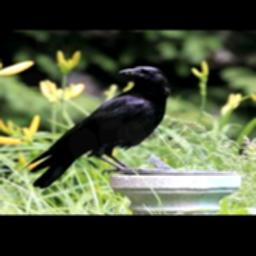Crow: (22, 66, 171, 190)
